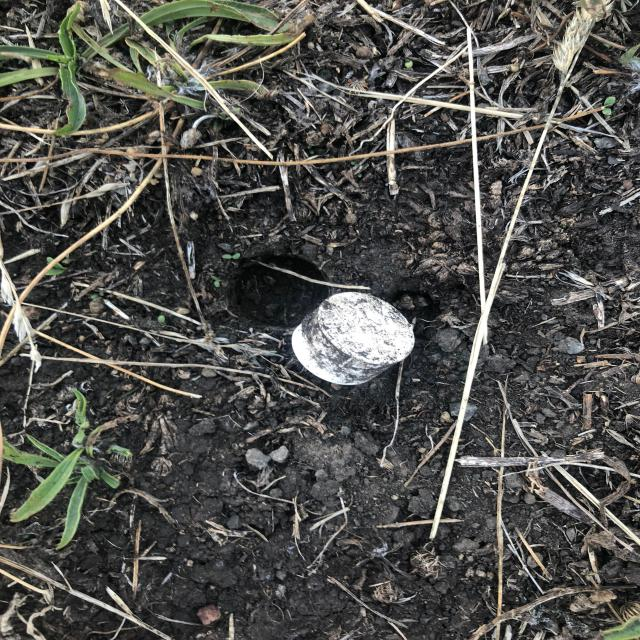Other plastic bottle: (291, 292, 415, 385)
